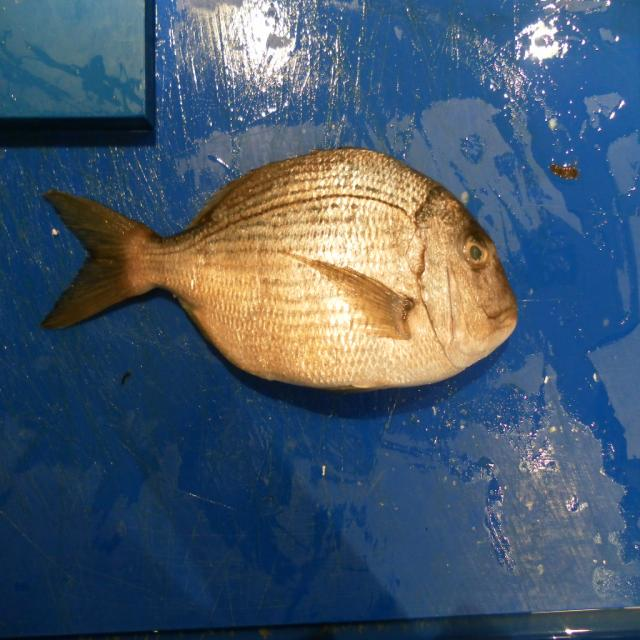Red-Sea-Bream-mercan-: (40, 148, 518, 394)
